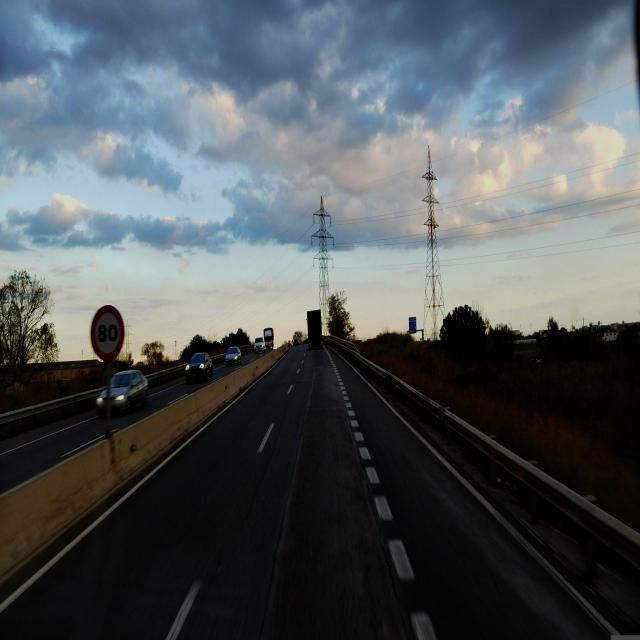car: (96, 369, 150, 418), (184, 350, 213, 384), (225, 346, 242, 367), (254, 336, 266, 354)
